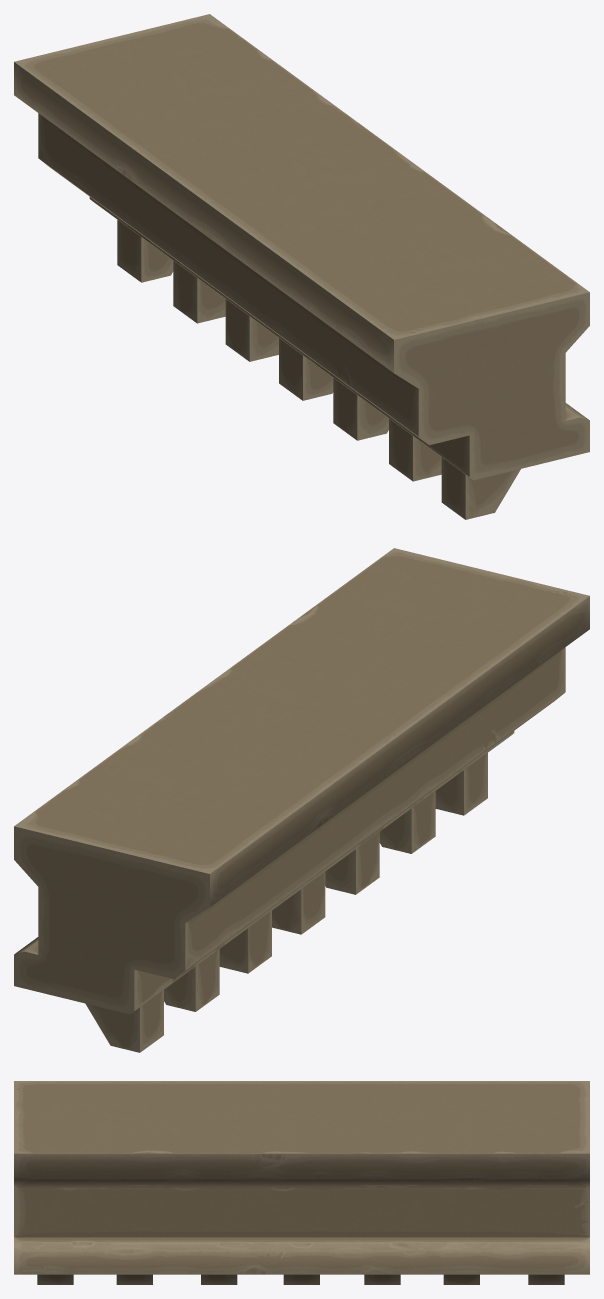
File: ARC0510056.fbx
The picture shows the model from 3 angles, top to bottom: view 1: azimuth 30°, elevation 25°; view 2: azimuth 150°, elevation 25°; view 3: azimuth 270°, elevation 25°; orthographic projection. The views are drawn at different scales.
Parts seen in each view (by area): view 1: smARC0510056; view 2: smARC0510056; view 3: smARC0510056.
Boxes of the visible parts, x1,y1,x2,y2 form: smARC0510056: (14,14,589,519); smARC0510056: (14,548,589,1052); smARC0510056: (14,1081,589,1284).
Size of the model in its own units: 89.23 by 92.42 by 300.
Materials: 1 (1 with a texture image).
